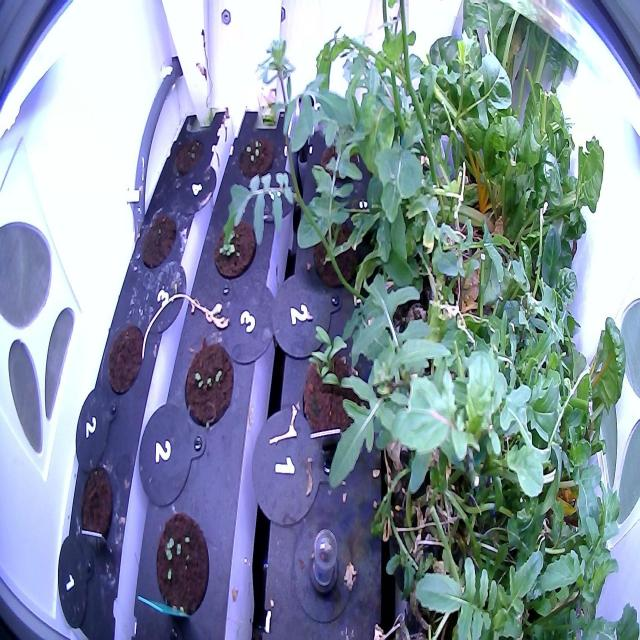germination: (297, 320, 366, 450), (150, 506, 212, 623), (180, 330, 237, 437), (211, 213, 258, 284), (237, 128, 275, 188), (173, 131, 206, 182)
pod: (73, 461, 116, 555), (103, 320, 147, 398), (137, 208, 180, 272)
